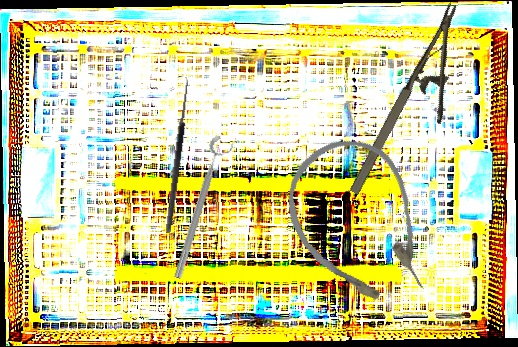Cannula: (267, 121, 451, 329)
Fixation Ring: (169, 134, 237, 283)
Hook Surgical: (157, 75, 192, 234)
Needle Holder: (343, 2, 496, 213)
